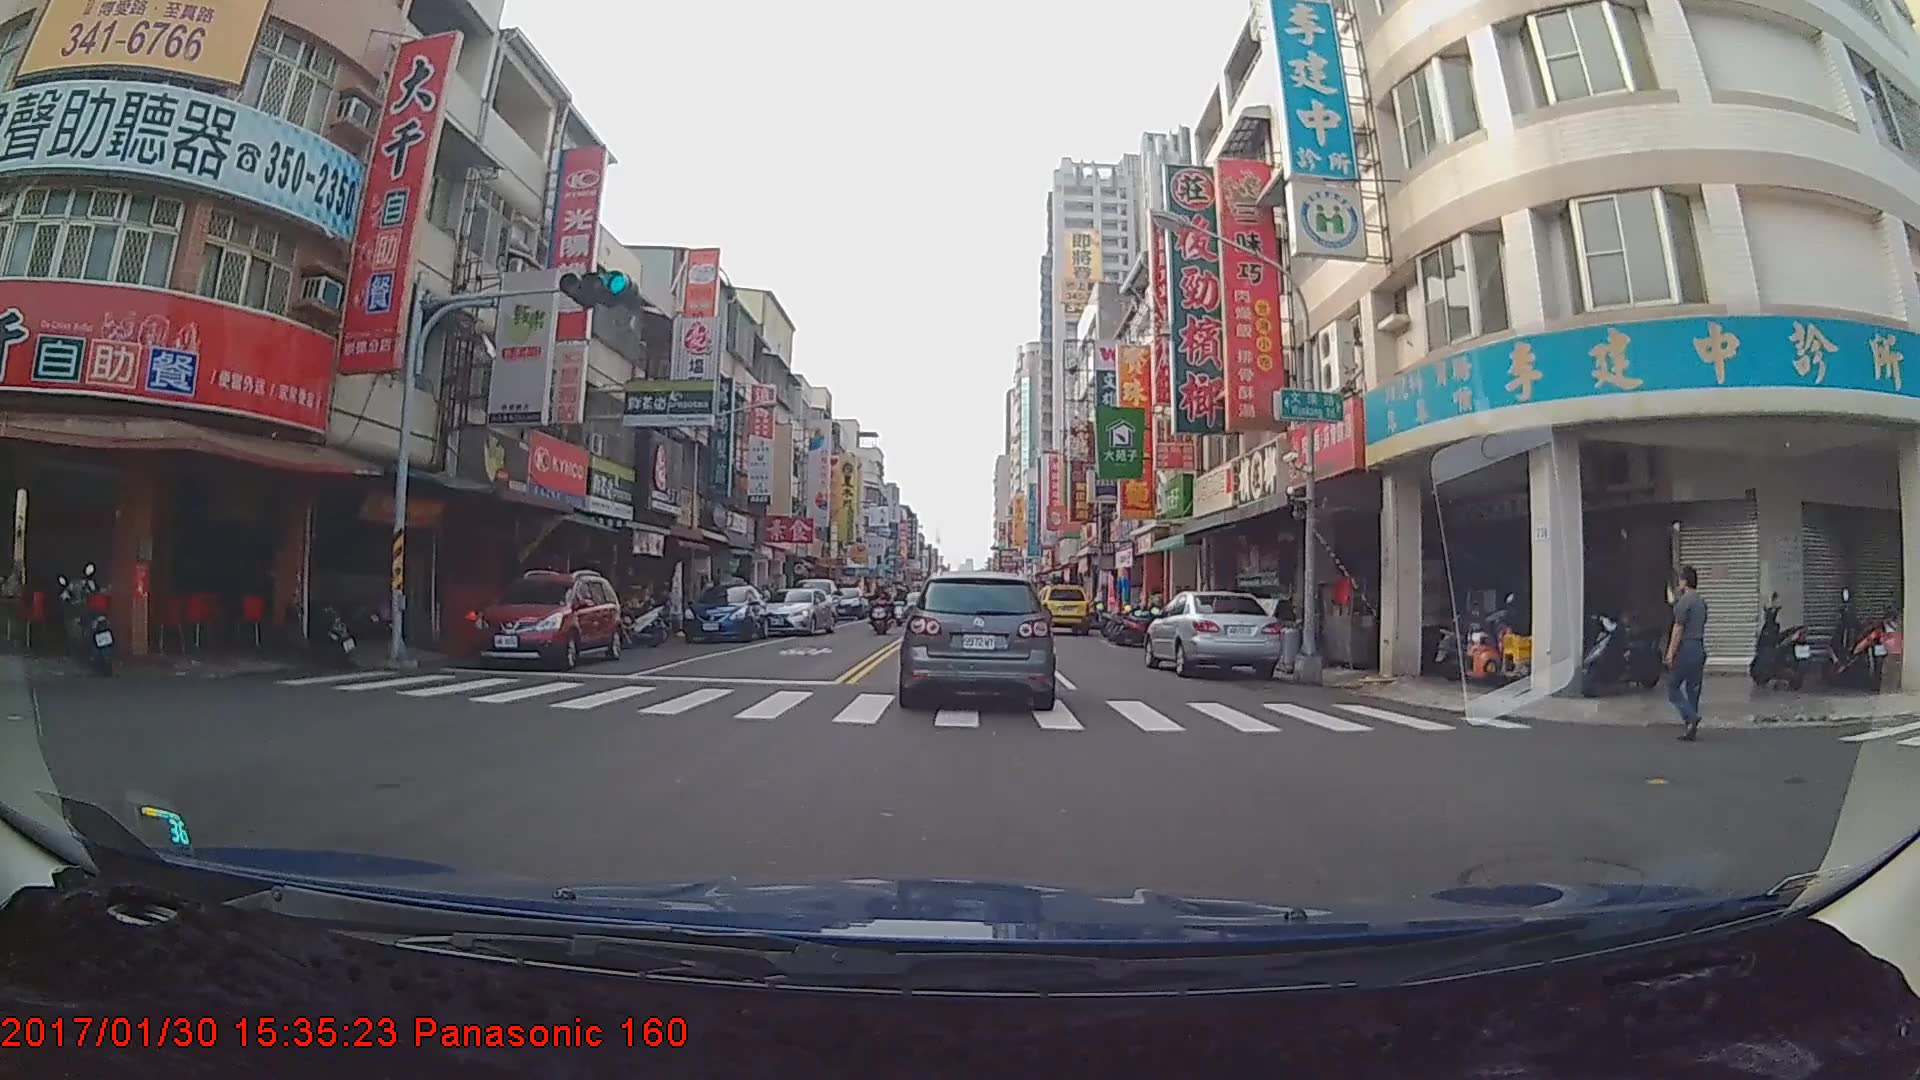pedestrian: (1668, 566, 1718, 750)
rider: (869, 582, 894, 638)
vehicle: (898, 568, 1054, 709), (471, 566, 623, 670), (1143, 589, 1283, 681), (682, 584, 768, 643), (759, 586, 833, 637), (1026, 584, 1091, 635)
